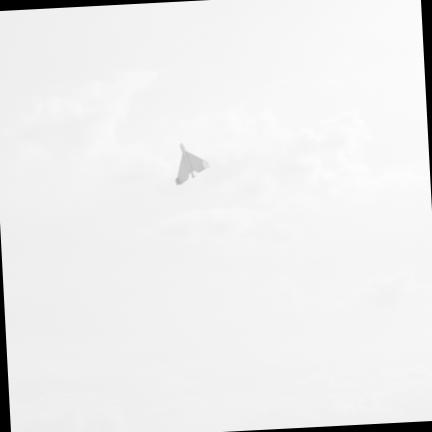Shahed: (176, 144, 209, 184)
